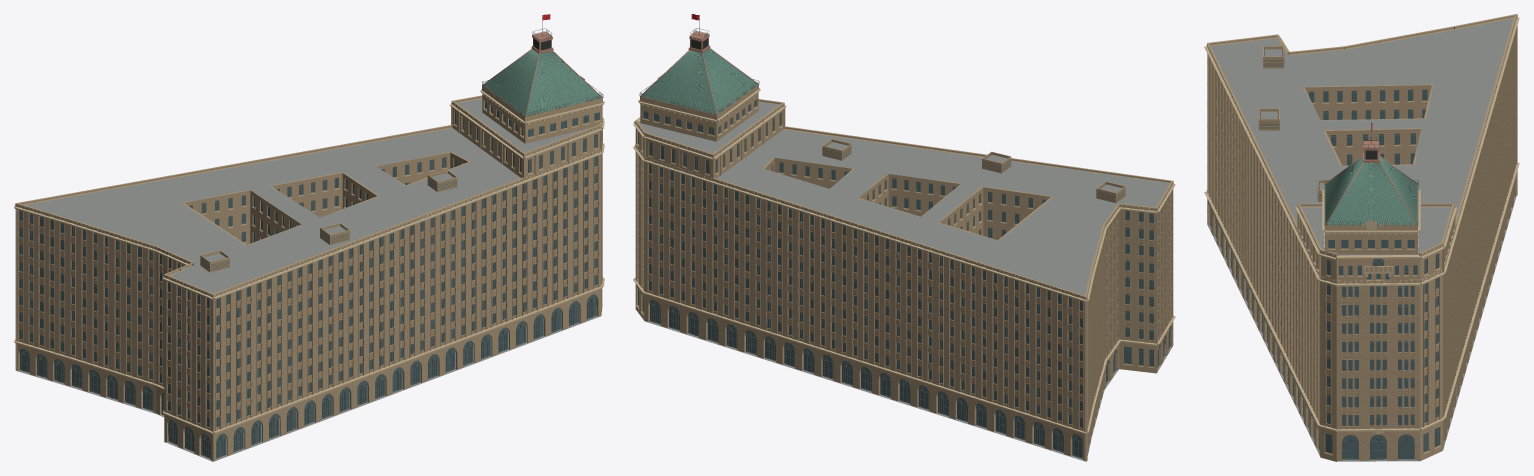
Rendered from bund20.glb.
3 renders of one model, left to right at view 1: azimuth 30°, elevation 25°; view 2: azimuth 150°, elevation 25°; view 3: azimuth 270°, elevation 25°, orthographic. The views are drawn at different scales.
Visible parts, largest first — view 1: Conformal structural walls — source panel union, 02 Hotel masonry, genuine window reveals and Art-Deco vertic, 03 Three open courtyards, rear windows, floor and roof slabs, 01 Ground arches, sandstone piers and bronze doors, 06 Patinated copper pyramid, raised seams, lantern and flagp, 04 Stepped eastern pavilion and projecting central balcony, 05 Penthouse, sculpted frieze and terrace balustrades, 07 Screened rear roof plant; view 2: Conformal structural walls — source panel union, 02 Hotel masonry, genuine window reveals and Art-Deco vertic, 03 Three open courtyards, rear windows, floor and roof slabs, 01 Ground arches, sandstone piers and bronze doors, 06 Patinated copper pyramid, raised seams, lantern and flagp, 04 Stepped eastern pavilion and projecting central balcony, 05 Penthouse, sculpted frieze and terrace balustrades, 07 Screened rear roof plant; view 3: Conformal structural walls — source panel union, 02 Hotel masonry, genuine window reveals and Art-Deco vertic, 03 Three open courtyards, rear windows, floor and roof slabs, 06 Patinated copper pyramid, raised seams, lantern and flagp, 01 Ground arches, sandstone piers and bronze doors, 04 Stepped eastern pavilion and projecting central balcony, 05 Penthouse, sculpted frieze and terrace balustrades, 07 Screened rear roof plant.
Part boxes in pixels (<box>): Conformal structural walls — source panel union: <box>15,95,602,461</box>; 02 Hotel masonry, genuine window reveals and Art-Deco vertic: <box>14,125,604,430</box>; 03 Three open courtyards, rear windows, floor and roof slabs: <box>16,128,600,461</box>; 01 Ground arches, sandstone piers and bronze doors: <box>14,277,604,458</box>; 06 Patinated copper pyramid, raised seams, lantern and flagp: <box>482,14,602,116</box>; 04 Stepped eastern pavilion and projecting central balcony: <box>450,95,604,180</box>; 05 Penthouse, sculpted frieze and terrace balustrades: <box>480,76,604,139</box>; 07 Screened rear roof plant: <box>200,170,457,272</box>; Conformal structural walls — source panel union: <box>635,92,1173,461</box>; 02 Hotel masonry, genuine window reveals and Art-Deco vertic: <box>633,126,1175,431</box>; 03 Three open courtyards, rear windows, floor and roof slabs: <box>645,129,1172,461</box>; 01 Ground arches, sandstone piers and bronze doors: <box>633,277,1175,458</box>; 06 Patinated copper pyramid, raised seams, lantern and flagp: <box>640,14,758,115</box>; 04 Stepped eastern pavilion and projecting central balcony: <box>633,99,786,181</box>; 05 Penthouse, sculpted frieze and terrace balustrades: <box>638,74,760,136</box>; 07 Screened rear roof plant: <box>822,139,1125,203</box>; Conformal structural walls — source panel union: <box>1207,17,1517,461</box>; 02 Hotel masonry, genuine window reveals and Art-Deco vertic: <box>1204,14,1519,429</box>; 03 Three open courtyards, rear windows, floor and roof slabs: <box>1207,18,1516,461</box>; 06 Patinated copper pyramid, raised seams, lantern and flagp: <box>1324,122,1418,225</box>; 01 Ground arches, sandstone piers and bronze doors: <box>1204,163,1519,460</box>; 04 Stepped eastern pavilion and projecting central balcony: <box>1295,203,1457,434</box>; 05 Penthouse, sculpted frieze and terrace balustrades: <box>1322,180,1420,254</box>; 07 Screened rear roof plant: <box>1258,46,1329,201</box>.
Size of the model in its own units: 151 by 83 by 74.68.
